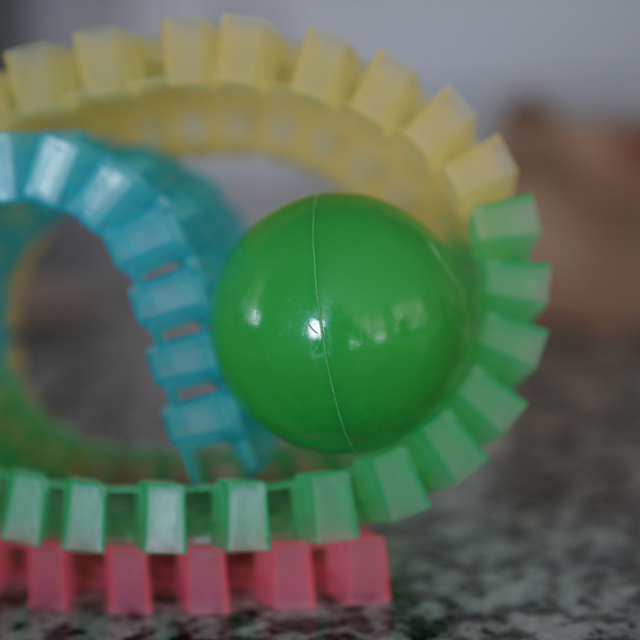Ball: (209, 195, 473, 456)
